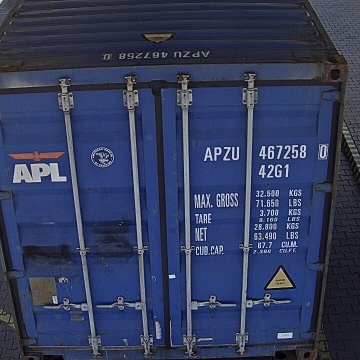serial_id: (204, 143, 327, 160)
